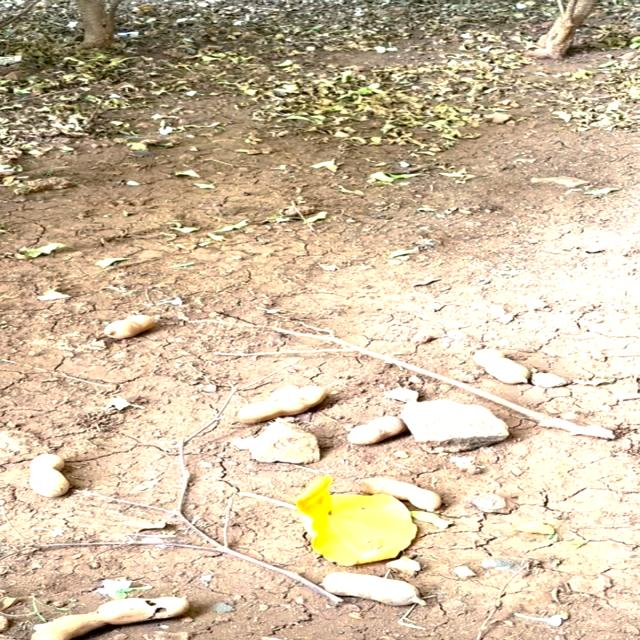tamarind: (22, 591, 192, 640), (316, 569, 434, 610), (230, 380, 333, 424), (364, 474, 448, 514), (28, 452, 72, 501), (97, 310, 163, 340), (346, 414, 405, 444)
